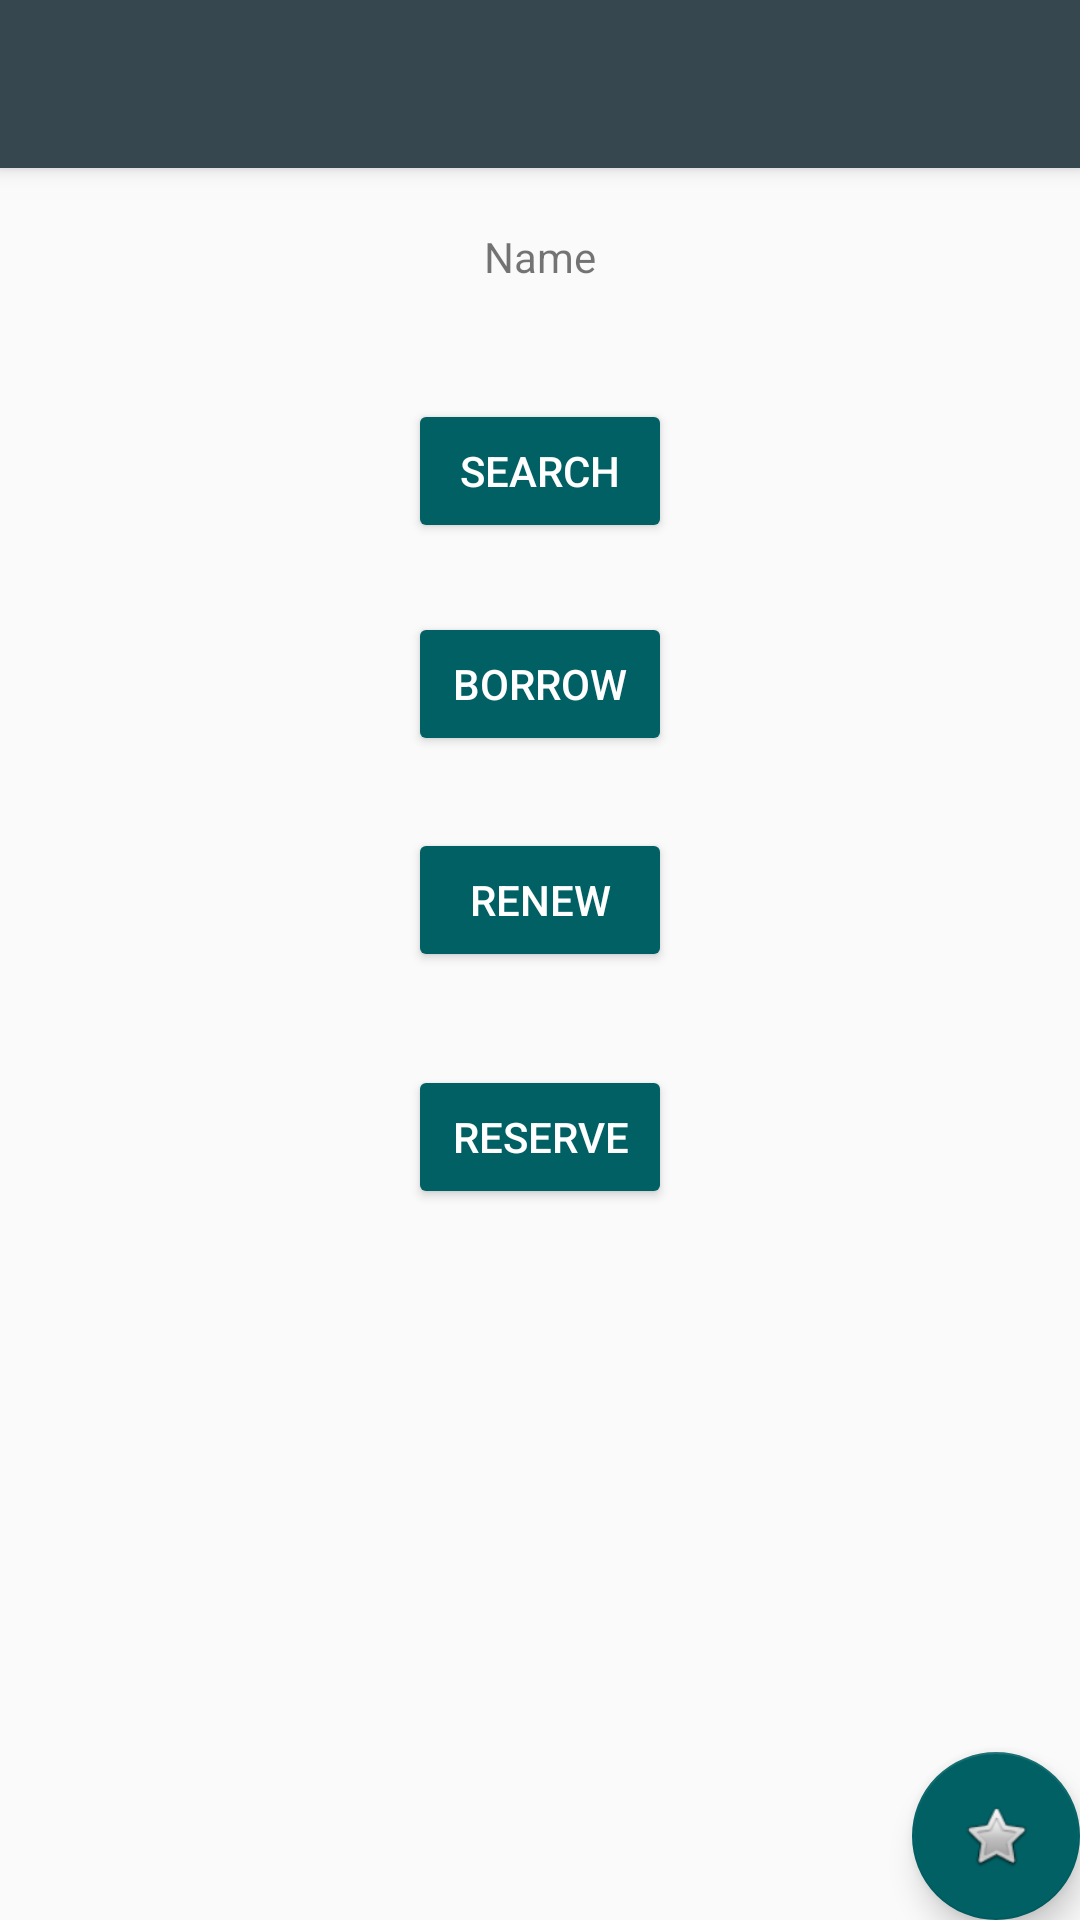

Where to tap for icons on this 1080px x 1920px app screen, as [x,y]:
star: [996,1836]
